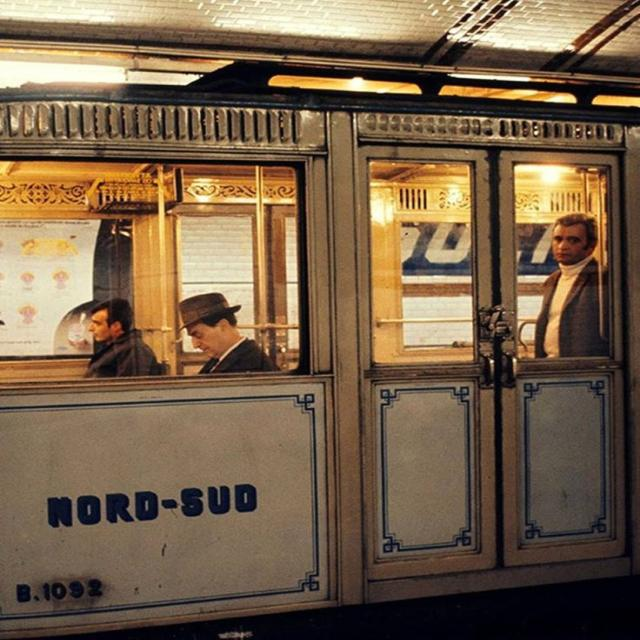body: (40, 288, 297, 574), (532, 210, 610, 358), (79, 295, 162, 378)
